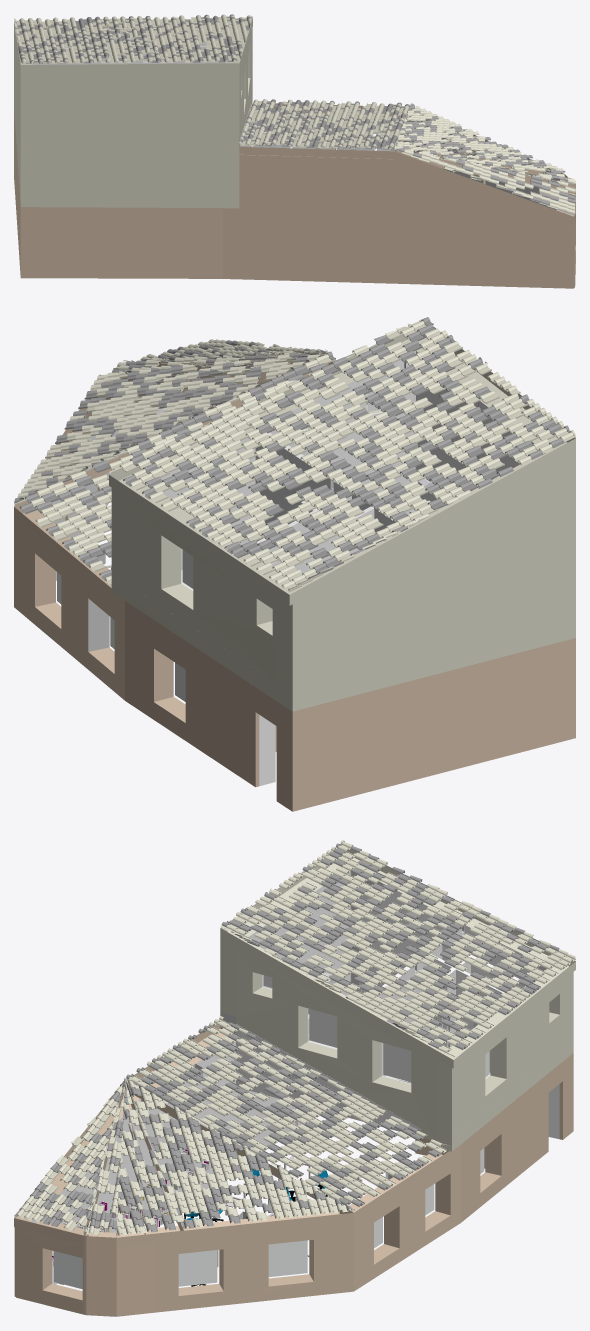
File: refugio_centro_social_2021.glb
3 renders of one model, top to bottom at view 1: azimuth 30°, elevation 25°; view 2: azimuth 150°, elevation 25°; view 3: azimuth 270°, elevation 25°, orthographic. The views are drawn at different scales.
Visible parts, largest first — view 1: grupo_14, grupo_00, grupo_02, grupo_04; view 2: grupo_00, grupo_14, grupo_02, grupo_04, grupo_16, grupo_12; view 3: grupo_00, grupo_14, grupo_02, grupo_04, grupo_16.
Part boxes in pixels (box(x1,y1,x2,y2)): grupo_14: box(14, 103, 575, 288); grupo_00: box(14, 14, 575, 214); grupo_02: box(14, 14, 575, 215); grupo_04: box(36, 32, 556, 209); grupo_00: box(14, 318, 575, 711); grupo_14: box(14, 349, 575, 811); grupo_02: box(14, 317, 569, 580); grupo_04: box(42, 351, 533, 786); grupo_16: box(54, 391, 380, 701); grupo_12: box(88, 362, 478, 651); grupo_00: box(15, 840, 575, 1235); grupo_14: box(14, 1024, 573, 1316); grupo_02: box(14, 843, 559, 1235); grupo_04: box(31, 872, 559, 1284); grupo_16: box(54, 975, 489, 1289).
Bounding box in the file's own units: 18.18 × 8.66 × 18.15.
